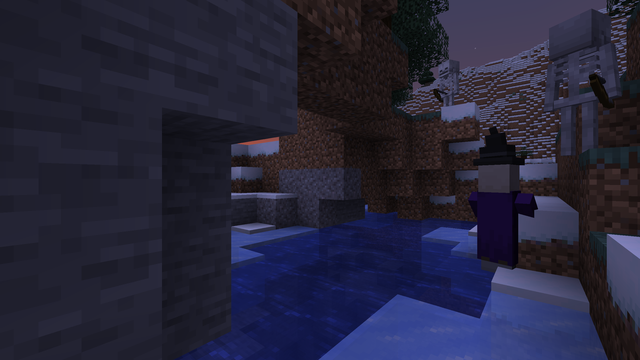sorcieres: (476, 159, 521, 280)
squelettes: (551, 4, 612, 156), (437, 58, 458, 106)
